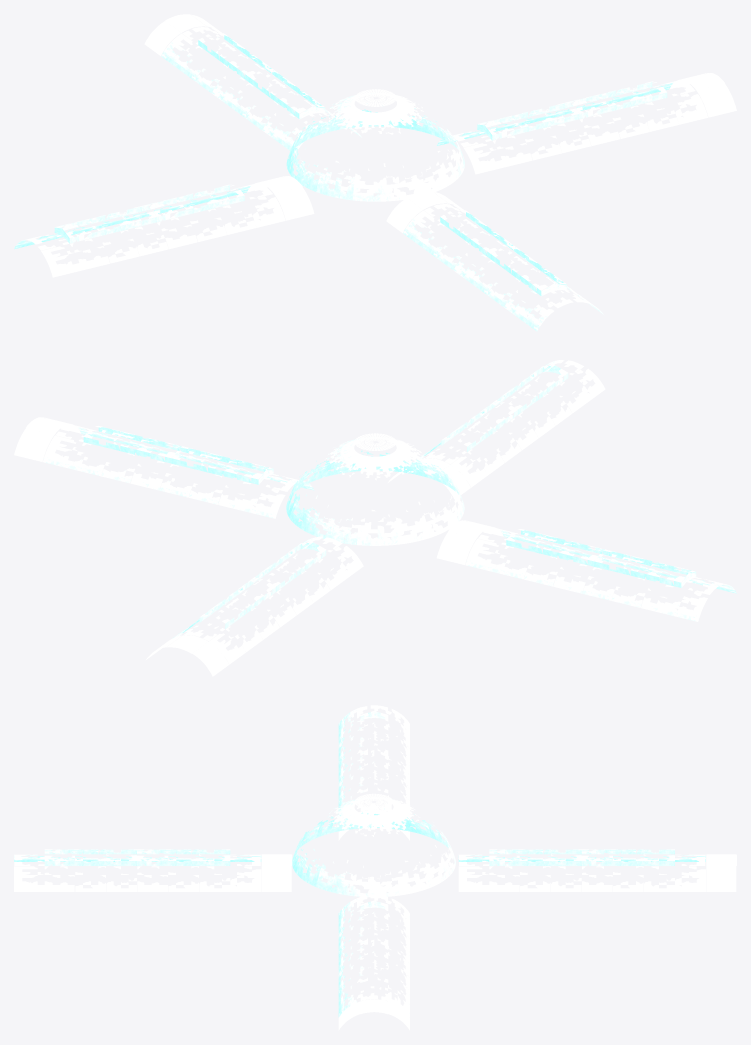
File: ALPHA_l02_01.fbx
3 renders of one model, top to bottom at view 1: azimuth 30°, elevation 25°; view 2: azimuth 150°, elevation 25°; view 3: azimuth 270°, elevation 25°, orthographic. The views are drawn at different scales.
Parts seen in each view (by area): view 1: LOD_1_Group_0_Sub_1__glass, LOD_1_Group_0_Sub_2__glass.001, LOD_1_Group_0_Sub_2__glass.009, LOD_1_Group_0_Sub_2__glass.013, LOD_1_Group_0_Sub_2__glass.010, LOD_1_Group_0_Sub_2__glass.007, LOD_1_Group_0_Sub_2__glass.008, LOD_1_Group_0_Sub_2__glass.012, LOD_1_Group_0_Sub_2__glass.015; view 2: LOD_1_Group_0_Sub_1__glass, LOD_1_Group_0_Sub_2__glass.001, LOD_1_Group_0_Sub_2__glass.009, LOD_1_Group_0_Sub_2__glass.010, LOD_1_Group_0_Sub_2__glass.013, LOD_1_Group_0_Sub_2__glass.008, LOD_1_Group_0_Sub_2__glass.007, LOD_1_Group_0_Sub_2__glass.012, LOD_1_Group_0_Sub_2__glass.015; view 3: LOD_1_Group_0_Sub_1__glass, LOD_1_Group_0_Sub_2__glass.013, LOD_1_Group_0_Sub_2__glass.010, LOD_1_Group_0_Sub_2__glass.009, LOD_1_Group_0_Sub_2__glass.001, LOD_1_Group_0_Sub_2__glass.015, LOD_1_Group_0_Sub_2__glass.012, LOD_1_Group_0_Sub_2__glass.008.
Boxes of the visible parts, box(x1,y1,x2,y2) form: LOD_1_Group_0_Sub_1__glass: box(286, 89, 464, 201); LOD_1_Group_0_Sub_2__glass.001: box(14, 183, 285, 277); LOD_1_Group_0_Sub_2__glass.009: box(437, 80, 707, 174); LOD_1_Group_0_Sub_2__glass.013: box(403, 204, 603, 331); LOD_1_Group_0_Sub_2__glass.010: box(161, 27, 361, 154); LOD_1_Group_0_Sub_2__glass.007: box(247, 176, 314, 220); LOD_1_Group_0_Sub_2__glass.008: box(670, 73, 736, 117); LOD_1_Group_0_Sub_2__glass.012: box(144, 14, 224, 55); LOD_1_Group_0_Sub_2__glass.015: box(386, 191, 465, 232); LOD_1_Group_0_Sub_1__glass: box(286, 433, 464, 545); LOD_1_Group_0_Sub_2__glass.001: box(465, 527, 736, 621); LOD_1_Group_0_Sub_2__glass.009: box(43, 424, 314, 518); LOD_1_Group_0_Sub_2__glass.010: box(172, 537, 363, 664); LOD_1_Group_0_Sub_2__glass.013: box(417, 360, 605, 487); LOD_1_Group_0_Sub_2__glass.008: box(14, 417, 80, 461); LOD_1_Group_0_Sub_2__glass.007: box(436, 520, 503, 564); LOD_1_Group_0_Sub_2__glass.012: box(146, 635, 228, 676); LOD_1_Group_0_Sub_2__glass.015: box(388, 458, 470, 499); LOD_1_Group_0_Sub_1__glass: box(292, 793, 455, 897); LOD_1_Group_0_Sub_2__glass.013: box(14, 849, 261, 891); LOD_1_Group_0_Sub_2__glass.010: box(458, 849, 705, 891); LOD_1_Group_0_Sub_2__glass.009: box(338, 894, 409, 1017); LOD_1_Group_0_Sub_2__glass.001: box(338, 705, 409, 823); LOD_1_Group_0_Sub_2__glass.015: box(261, 854, 292, 891); LOD_1_Group_0_Sub_2__glass.012: box(706, 854, 736, 891); LOD_1_Group_0_Sub_2__glass.008: box(338, 999, 409, 1030).
Bounding box in the file's own units: 9520 × 1090 × 9467.
